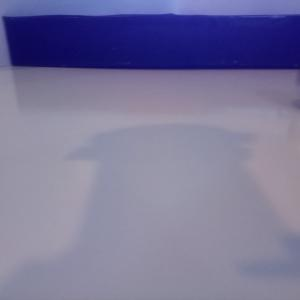zone: (3, 15, 300, 70)
